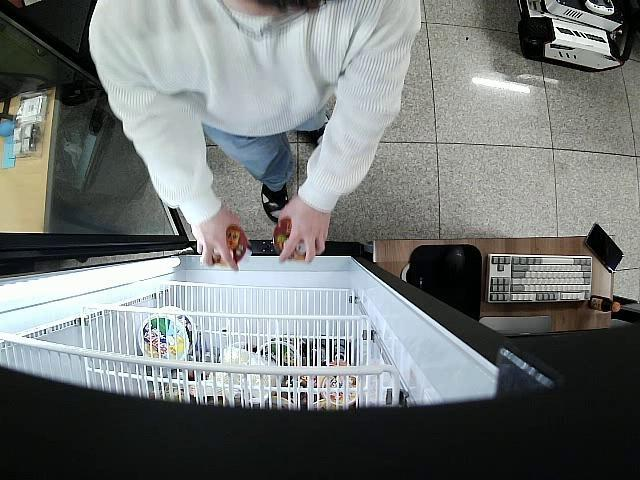06_nuguri_S: (212, 226, 250, 267), (274, 220, 306, 262)
